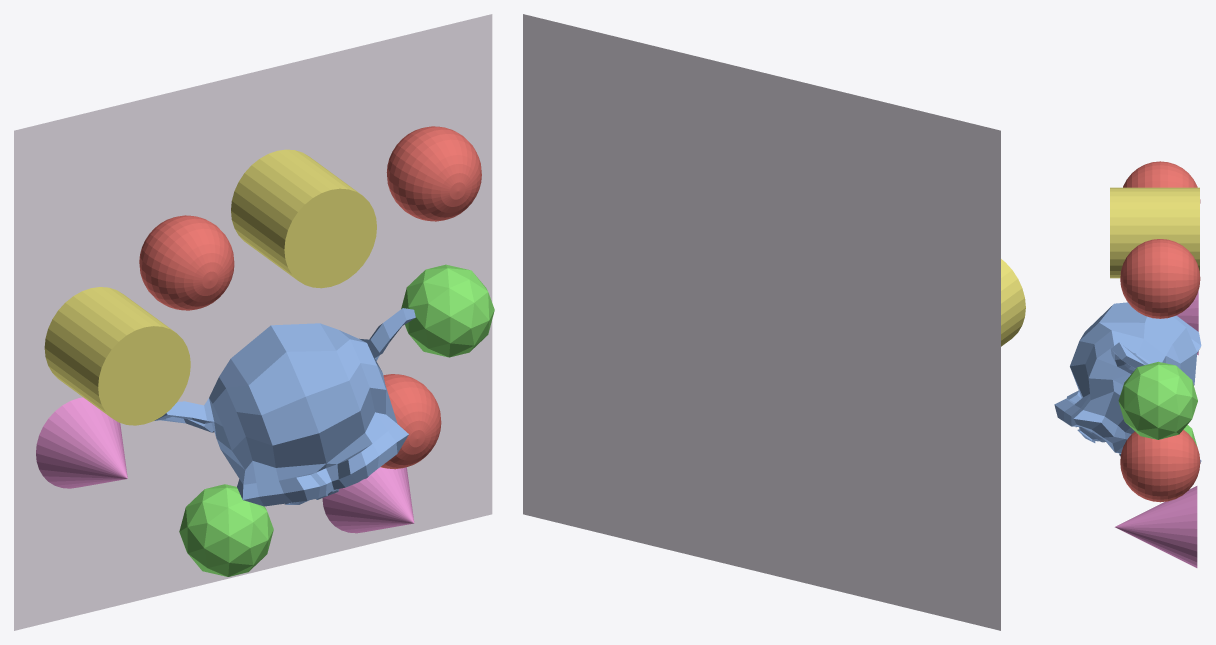
The model's file is simple_scene.gltf.
3 views of the same model, side by side, from view 1: azimuth 30°, elevation 25°; view 2: azimuth 150°, elevation 25°; view 3: azimuth 270°, elevation 25° (orthographic). The views are drawn at different scales.
Visible parts, largest first — view 1: Grid, Suzanne, Cylinder.001, Cylinder, Sphere.002, Sphere.001, Icosphere.001, Icosphere, Cone, Cone.001, Sphere; view 2: Grid, Cylinder.001; view 3: Suzanne, Cylinder, Sphere.001, Icosphere.001, Sphere, Cone.001, Sphere.002, Cone.
Boxes of the visible parts, x1=… form: Grid: x1=14, y1=14, x2=492, y2=630; Suzanne: x1=154, y1=308, x2=415, y2=506; Cylinder.001: x1=44, y1=287, x2=190, y2=425; Cylinder: x1=231, y1=149, x2=376, y2=288; Sphere.002: x1=139, y1=215, x2=234, y2=310; Sphere.001: x1=386, y1=126, x2=481, y2=221; Icosphere.001: x1=401, y1=264, x2=494, y2=357; Icosphere: x1=179, y1=484, x2=273, y2=576; Cone: x1=36, y1=397, x2=127, y2=488; Cone.001: x1=322, y1=467, x2=414, y2=533; Sphere: x1=380, y1=374, x2=441, y2=469; Grid: x1=523, y1=14, x2=1000, y2=630; Cylinder.001: x1=1001, y1=259, x2=1025, y2=346; Suzanne: x1=1054, y1=302, x2=1201, y2=463; Cylinder: x1=1110, y1=187, x2=1199, y2=277; Sphere.001: x1=1120, y1=239, x2=1200, y2=318; Icosphere.001: x1=1118, y1=361, x2=1197, y2=439; Sphere: x1=1120, y1=430, x2=1200, y2=502; Cone.001: x1=1115, y1=486, x2=1197, y2=567; Sphere.002: x1=1123, y1=161, x2=1200, y2=203; Cone: x1=1176, y1=290, x2=1198, y2=355.
Bounding box in the file's own units: 5.26 × 5.26 × 1.67.
